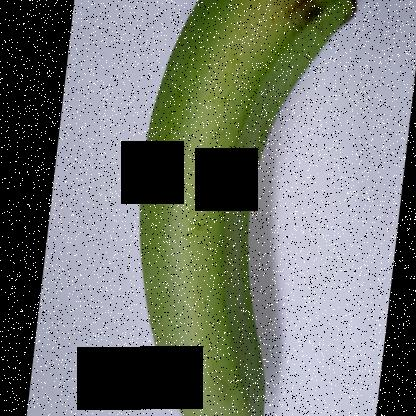freshunripe: (117, 0, 371, 415)
